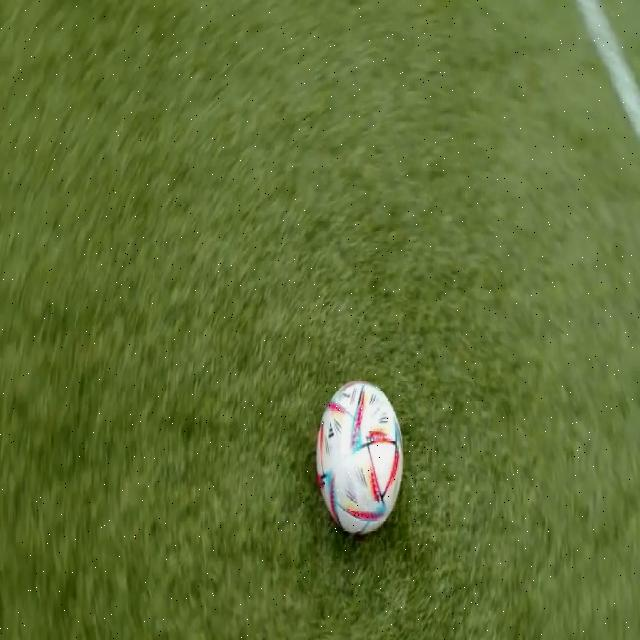ball: (316, 381, 402, 534)
